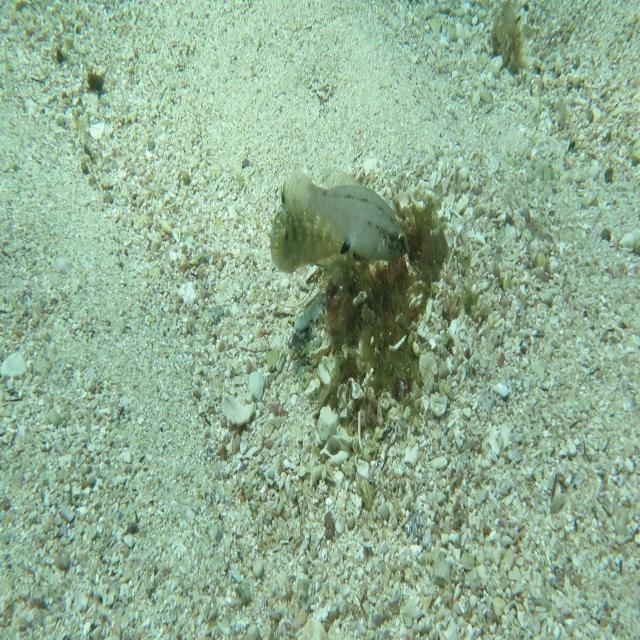BEND: (270, 178, 346, 276)
core_nest: (370, 229, 416, 276)
female: (284, 162, 412, 260)
nest: (311, 168, 462, 440)
